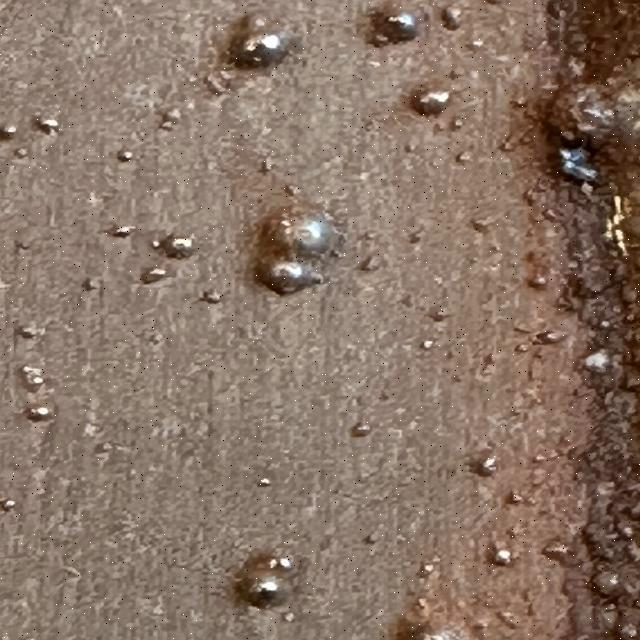Spatters: (255, 205, 337, 294), (548, 85, 618, 151), (227, 14, 298, 69), (235, 549, 297, 609), (396, 598, 475, 640), (368, 11, 418, 48), (561, 148, 598, 181), (152, 234, 195, 259), (412, 91, 450, 116), (583, 349, 617, 372), (18, 365, 45, 392), (205, 70, 235, 94), (470, 214, 502, 234), (23, 404, 55, 422), (542, 541, 570, 561), (533, 330, 567, 345), (15, 322, 45, 339), (160, 109, 182, 131), (442, 6, 462, 30), (140, 268, 168, 284), (360, 255, 387, 271), (477, 458, 498, 476), (108, 225, 137, 238), (350, 422, 372, 438), (37, 119, 60, 134), (493, 549, 512, 566), (200, 290, 222, 304), (418, 561, 435, 578), (528, 275, 548, 289), (0, 124, 17, 139), (507, 524, 525, 538), (260, 156, 275, 172), (283, 184, 302, 196), (363, 531, 380, 544), (408, 228, 422, 243), (507, 491, 523, 504), (82, 278, 98, 291), (0, 499, 17, 511), (117, 150, 133, 161), (457, 151, 472, 162), (13, 148, 28, 159), (257, 478, 272, 488), (515, 344, 530, 354), (452, 118, 463, 131), (283, 611, 295, 622), (422, 340, 435, 349)
